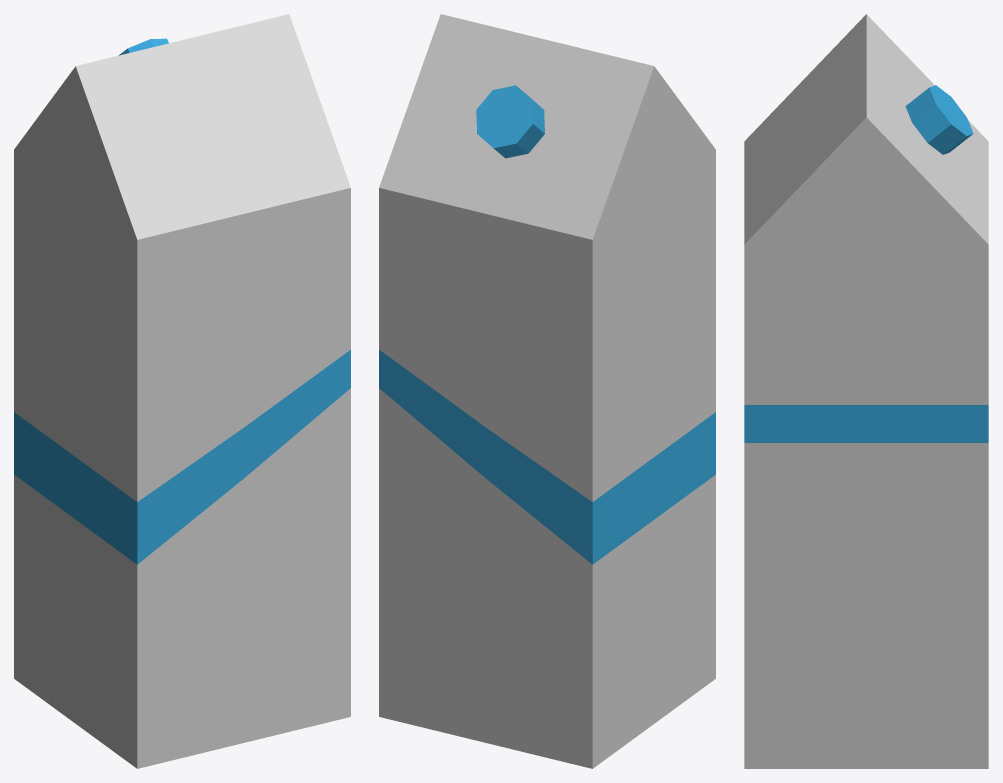
File: molokokokoko.fbx
3 views of the same model, side by side, from view 1: azimuth 30°, elevation 25°; view 2: azimuth 150°, elevation 25°; view 3: azimuth 270°, elevation 25° (orthographic).
Visible parts, largest first — view 1: Moloko; view 2: Moloko; view 3: Moloko.
Part boxes in pixels (x1,y1,x2,y2): Moloko: (14, 14, 350, 768); Moloko: (379, 14, 715, 768); Moloko: (744, 14, 988, 768).
Bounding box in the file's own units: 129 × 381 × 129.
